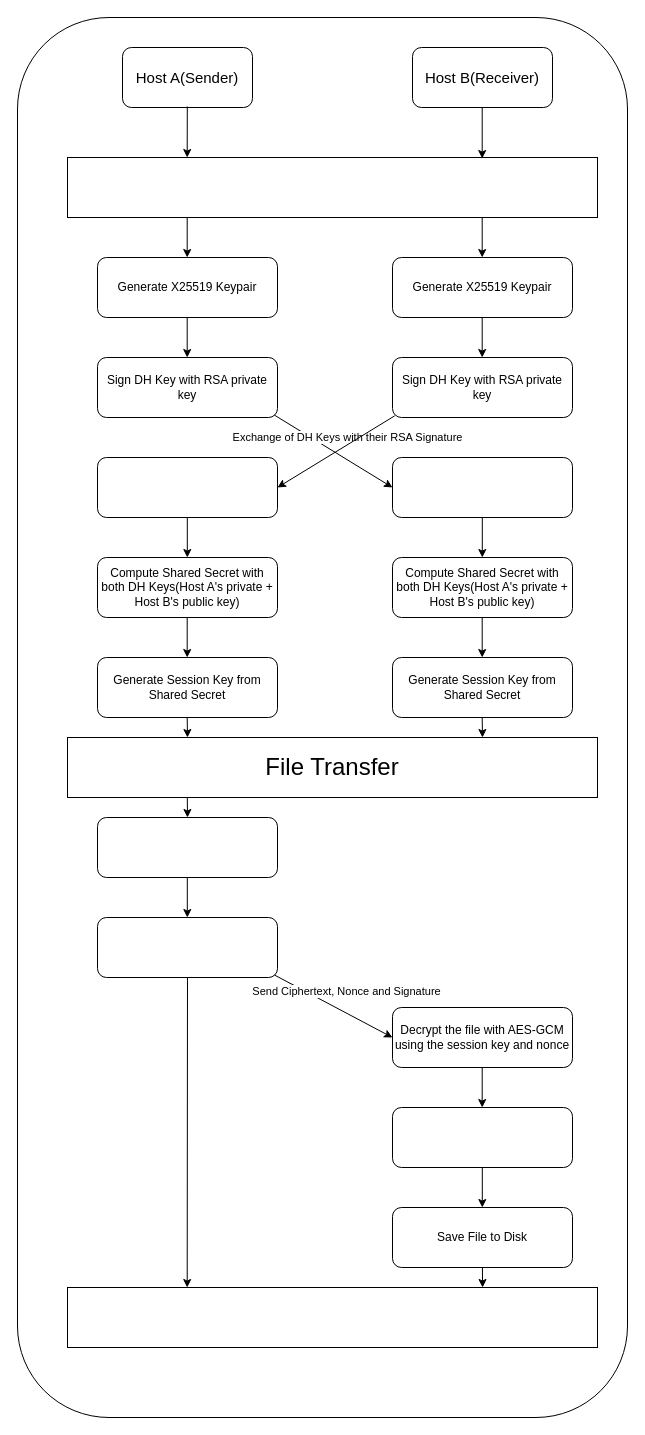
This 645x1435 diagram has some shape labels left out. Each missing label, with the centre of its shape:
"Compute Hash(SHA256) of the File and Sign it with RSA" belongs at [187,847].
"Encrypt the file with AES-GCM using the session key and nonce" belongs at [187,947].
"Handshake" belongs at [332,187].
"Recompute the Hash and Verify it with the Signature" belongs at [482,1137].
"Session Key + ECDH Key Discarded" belongs at [332,1317].
"Verify DH Key with Host A's public key" belongs at [482,487].
"Verify DH Key with Host B's public key" belongs at [187,487].
